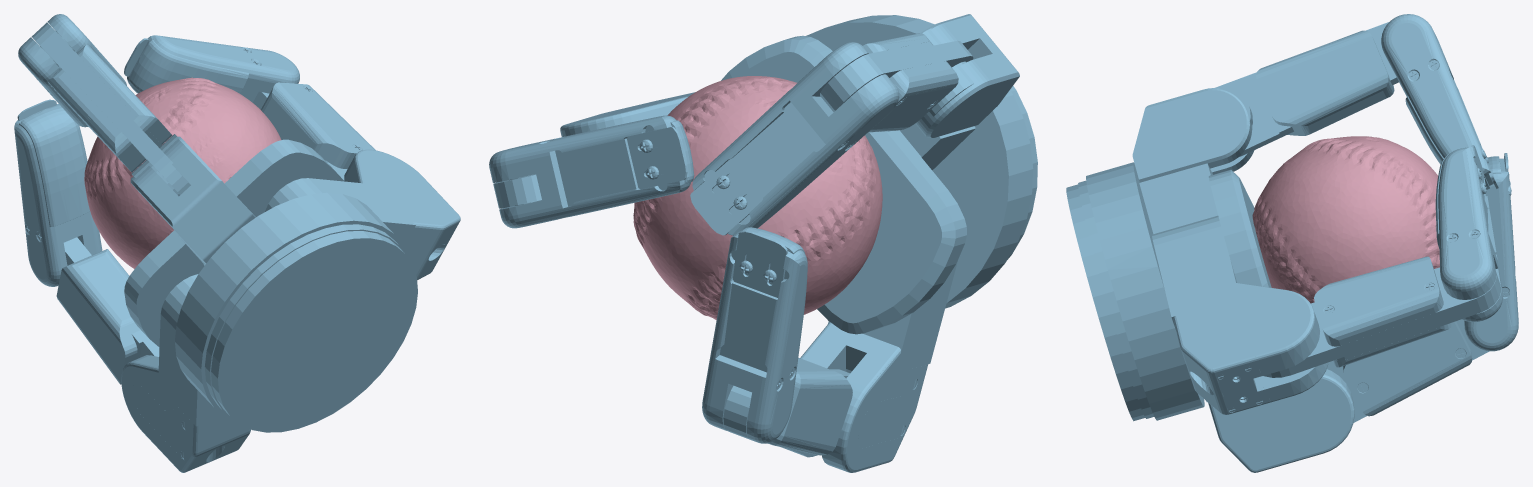
3 views of the same model, side by side, from view 1: azimuth 30°, elevation 25°; view 2: azimuth 150°, elevation 25°; view 3: azimuth 270°, elevation 25° (orthographic). The views are drawn at different scales.
Parts seen in each view (by area): view 1: world; view 2: world; view 3: world.
Boxes of the visible parts, left/top/right/bottom form: world: left=14, top=14, right=460, bottom=472; world: left=489, top=14, right=1037, bottom=472; world: left=1066, top=14, right=1518, bottom=472.
Size of the model in its own units: 0.1396 by 0.1608 by 0.1579.
